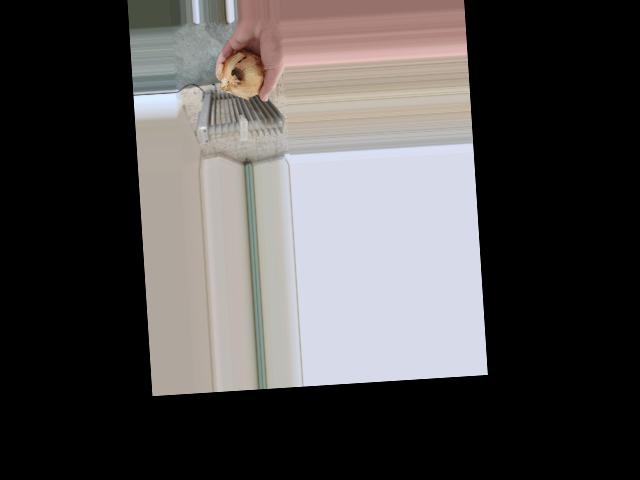onion: (220, 41, 268, 101)
